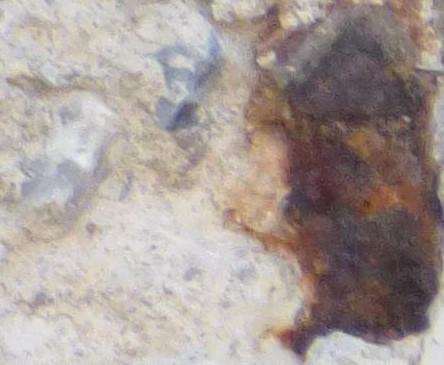Corrosion: (224, 1, 444, 365)
